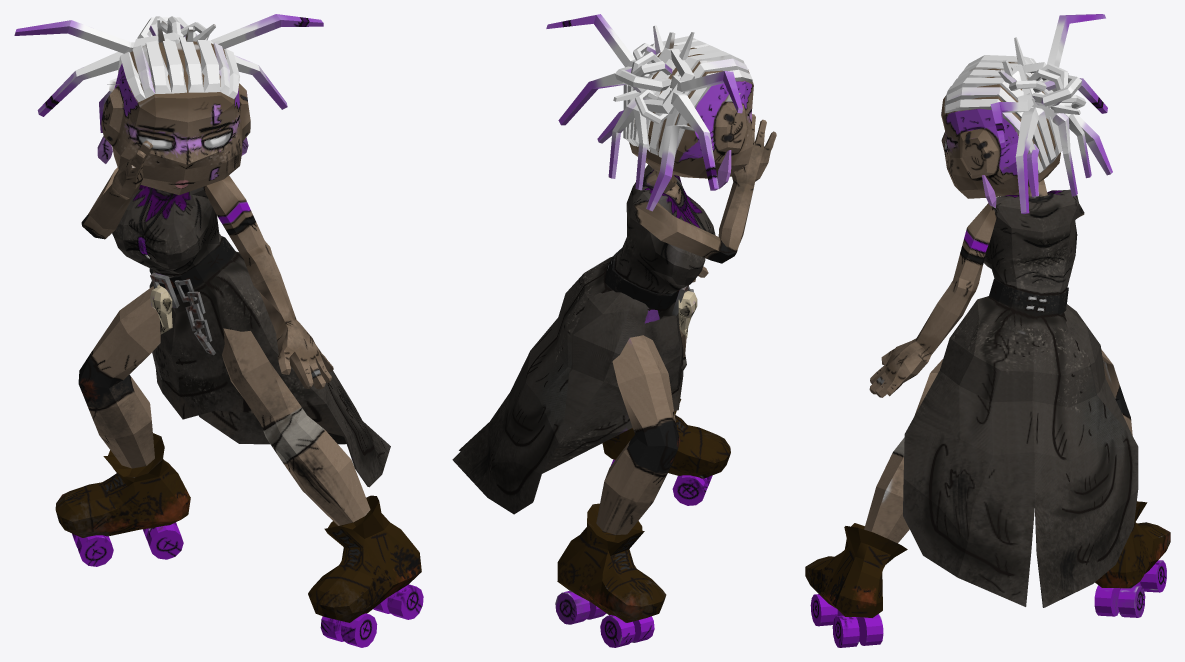
File: bruja_000033.obj
3 renders of one model, left to right at view 1: azimuth 30°, elevation 25°; view 2: azimuth 150°, elevation 25°; view 3: azimuth 270°, elevation 25°, orthographic. The views are drawn at different scales.
Parts seen in each view (by area): view 1: Bruja_Plane.001; view 2: Bruja_Plane.001; view 3: Bruja_Plane.001.
Part boxes in pixels (x1=…): Bruja_Plane.001: x1=14, y1=14, x2=423, y2=647; Bruja_Plane.001: x1=452, y1=14, x2=776, y2=647; Bruja_Plane.001: x1=805, y1=14, x2=1170, y2=647.
Size of the model in its own units: 9.23 by 15.45 by 9.24.
